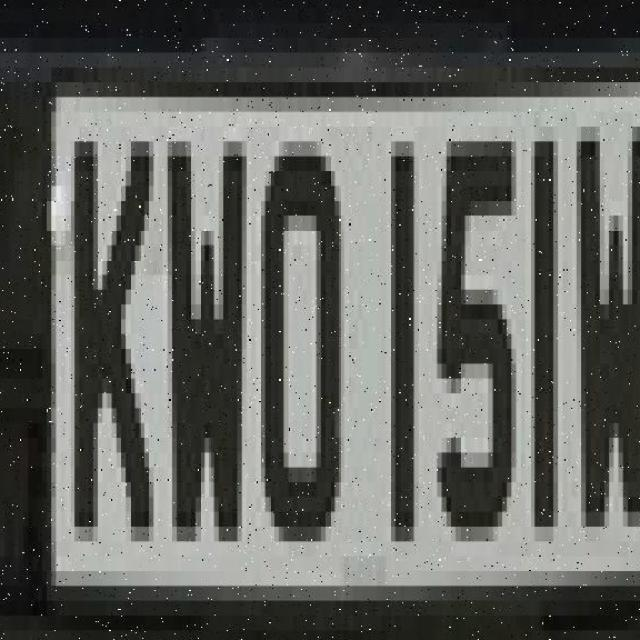license-plate: (63, 92, 636, 600)
